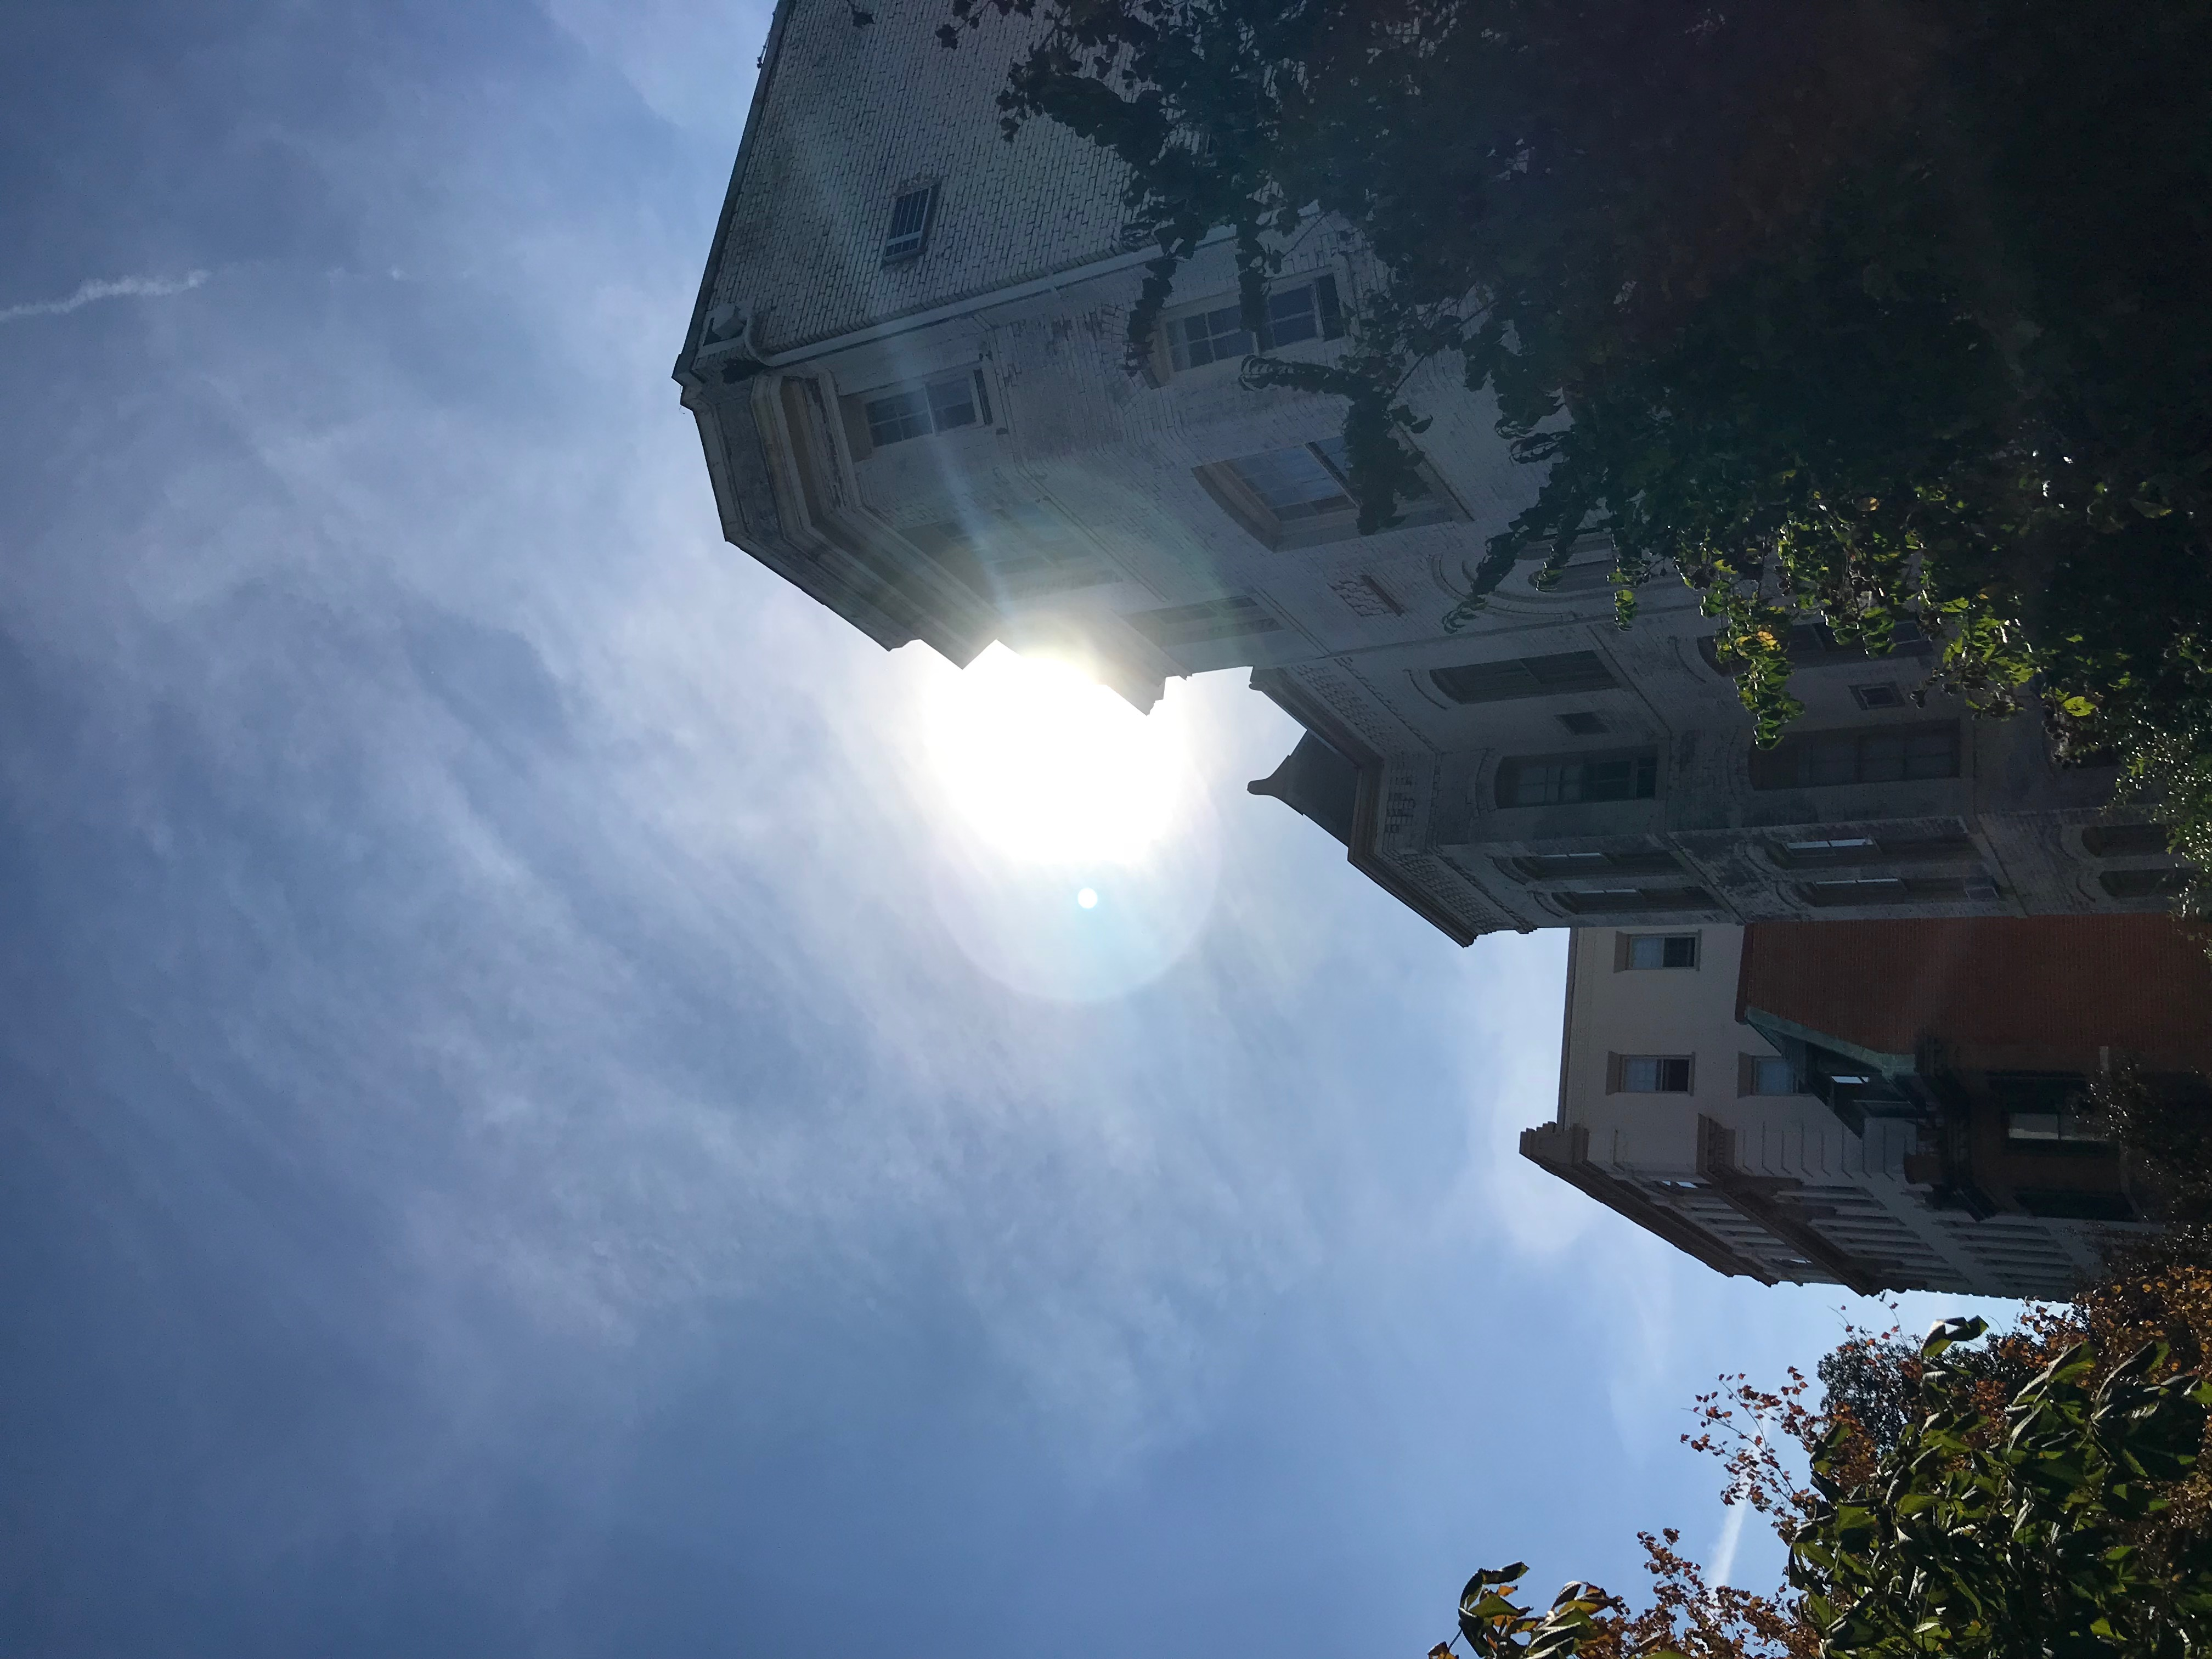flare: (1076, 887, 1101, 911)
